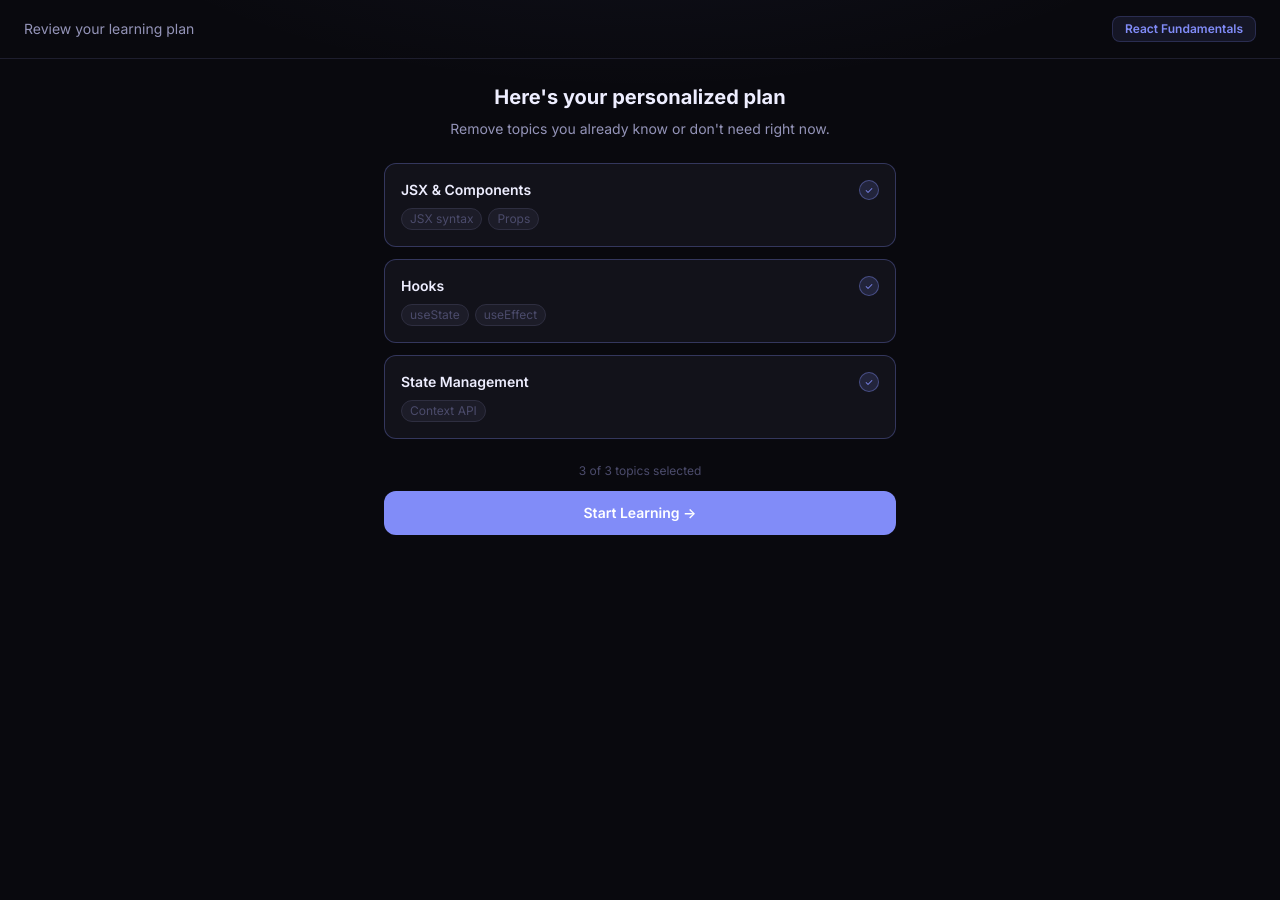
Scenario: TopicApprovalScreen — toggling items › can disable multiple items
The image size is (1280, 900).
Click the text "JSX & Components".
click(466, 190)  # box [401,180,531,200]
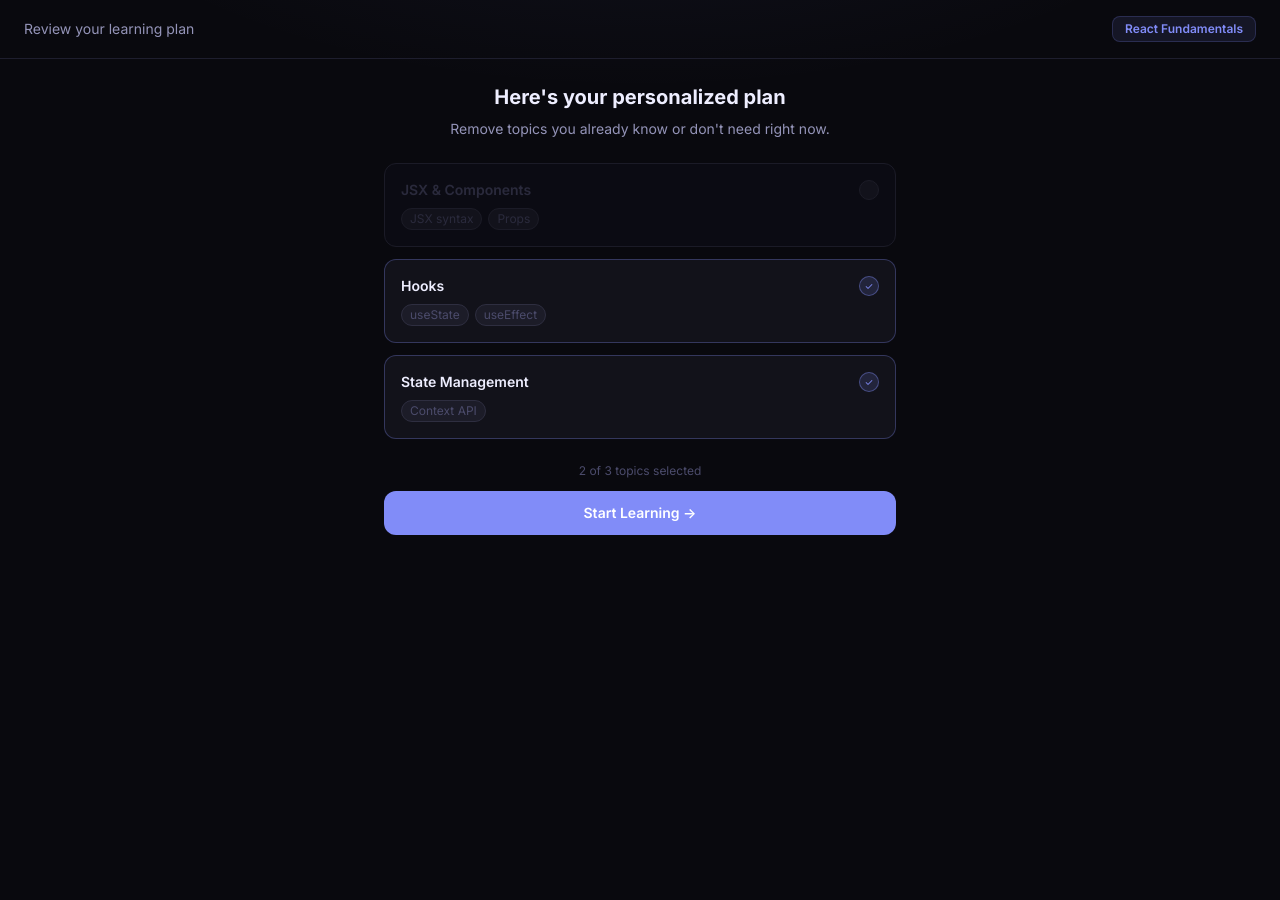
Click the text "Hooks".
click(423, 286)  # box [401,276,444,296]
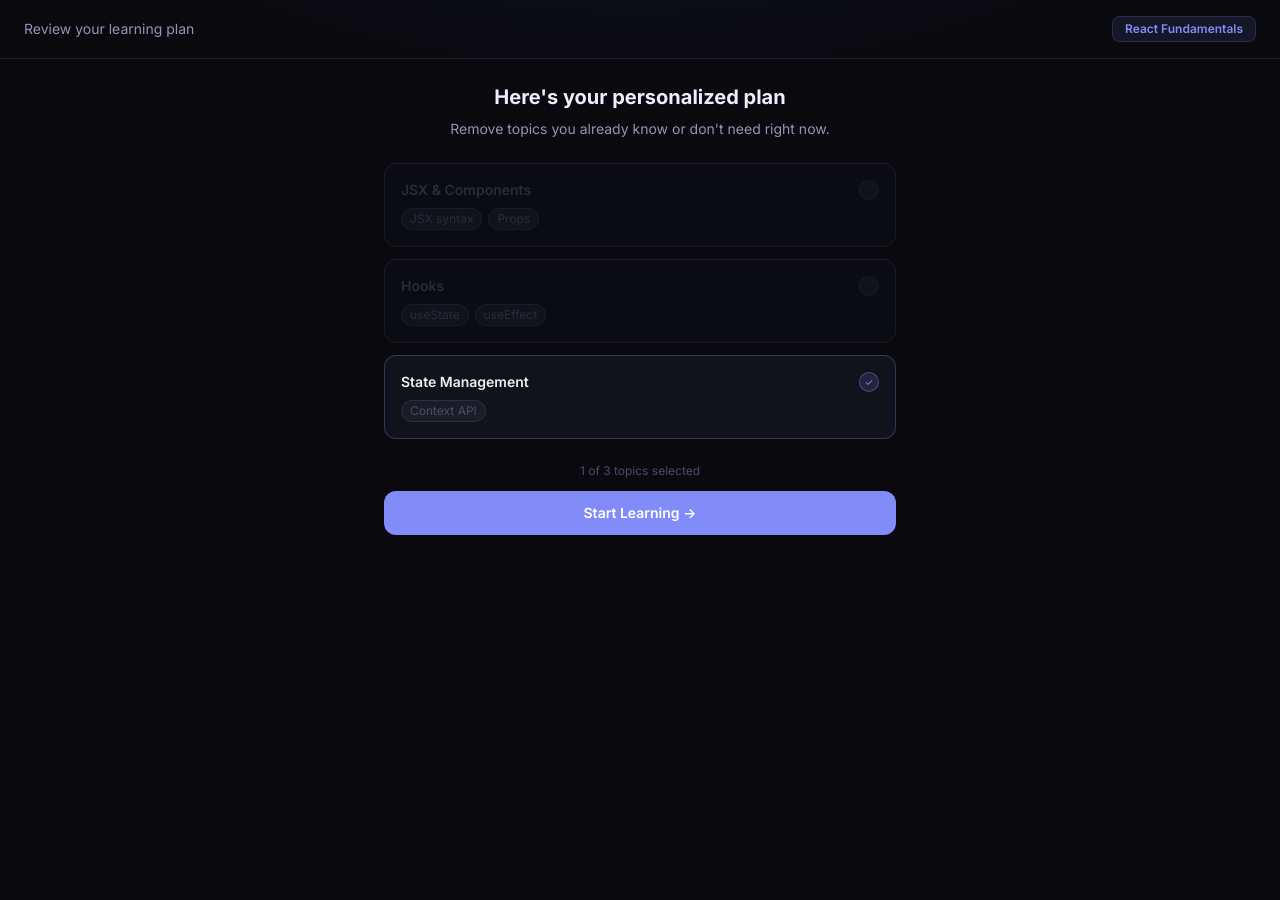
Expected: the text "1 of 3 topics selected" is shown, [580,463,700,479]
